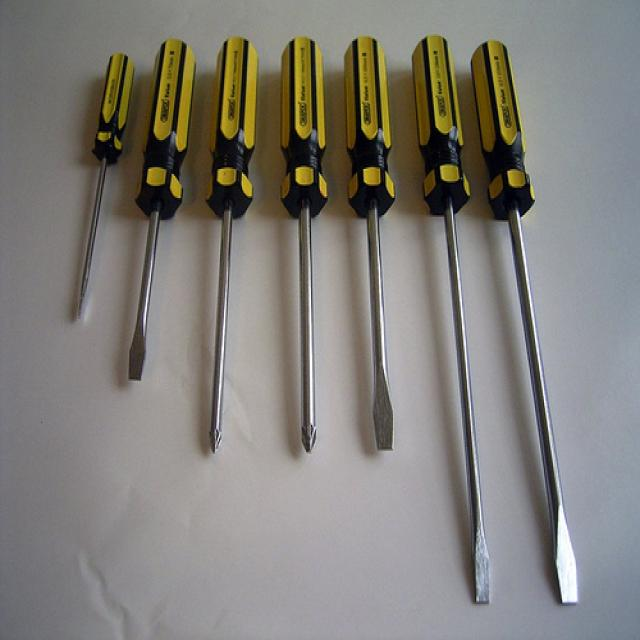screw_driver: (470, 41, 579, 608), (411, 36, 493, 609), (125, 39, 193, 384), (206, 36, 257, 456), (344, 36, 394, 454), (280, 38, 329, 456), (73, 53, 134, 321)
